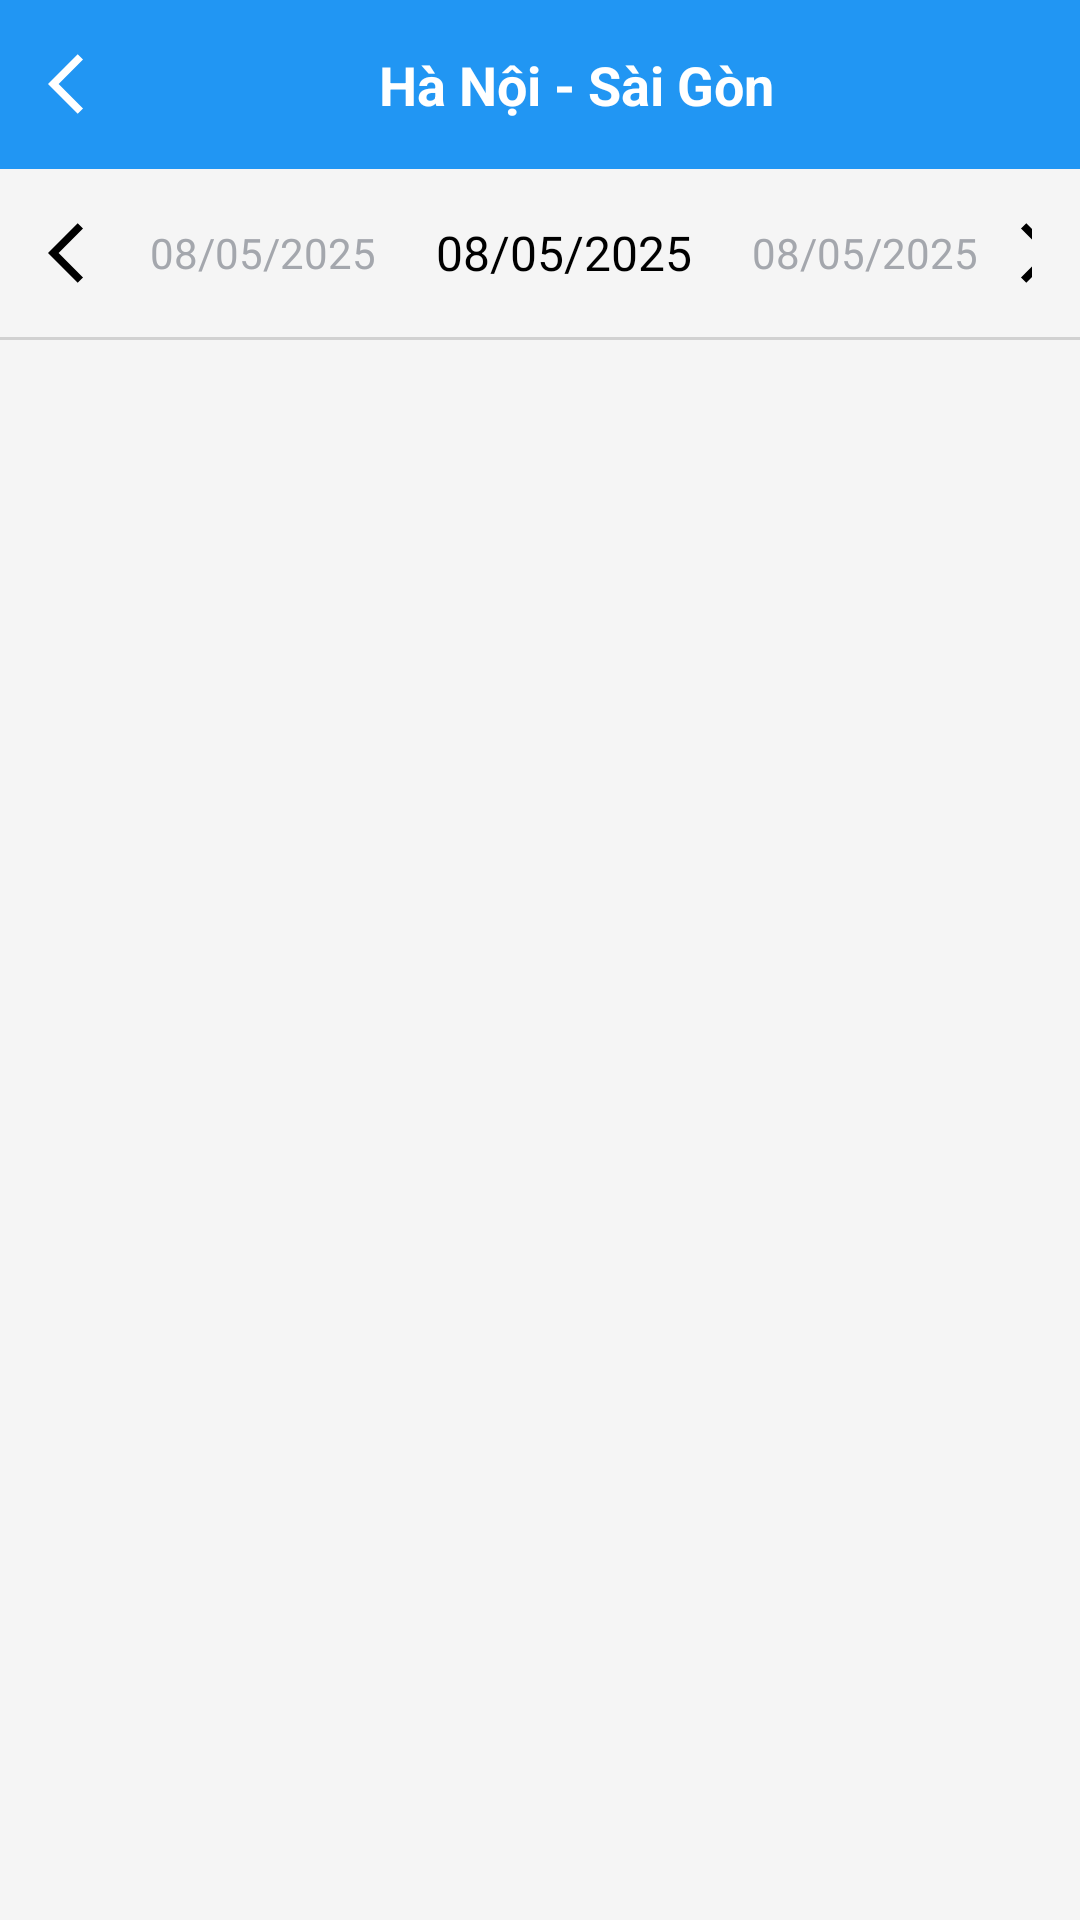

Screen size 1080x1920. Icon name, then its box in pixels as [x1=x1, y1=y1, x2=x2, y2=y2]:
Back: [x1=48, y1=54, x2=83, y2=114], [x1=48, y1=223, x2=83, y2=283]
